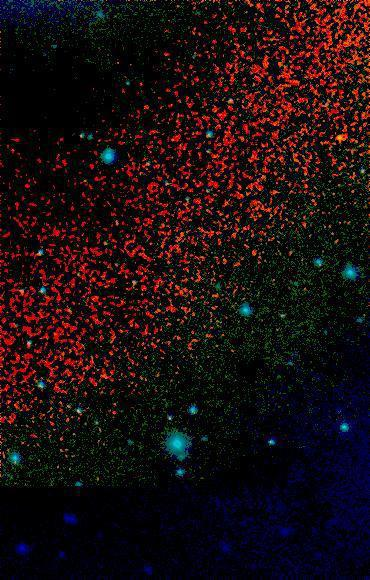star: (325, 124, 355, 154)
